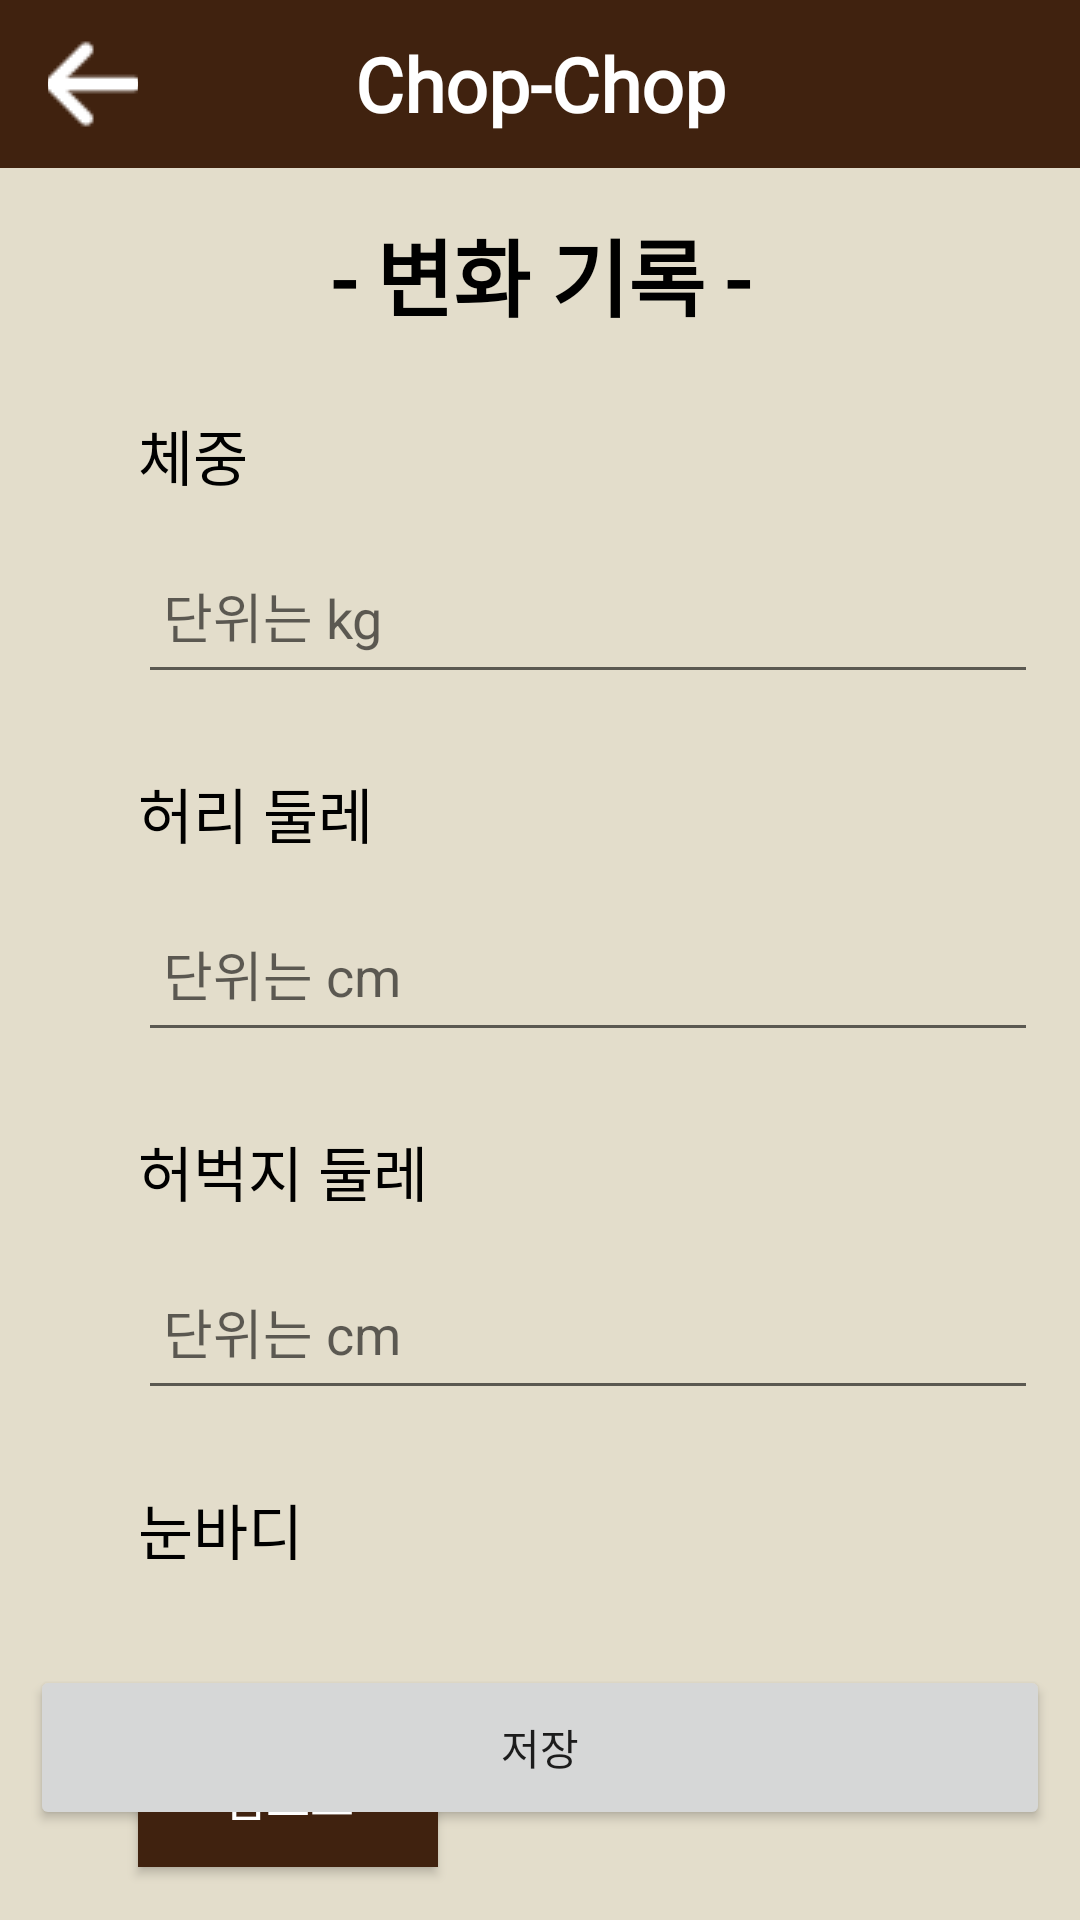

Screen size 1080 x 1920. Icon name, then its box in pixels as (x1, y1, x2, y2):
back: (48, 41, 138, 127)
